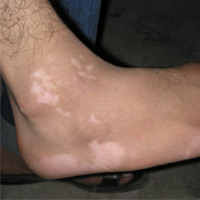vitiligo: (20, 62, 129, 165)
